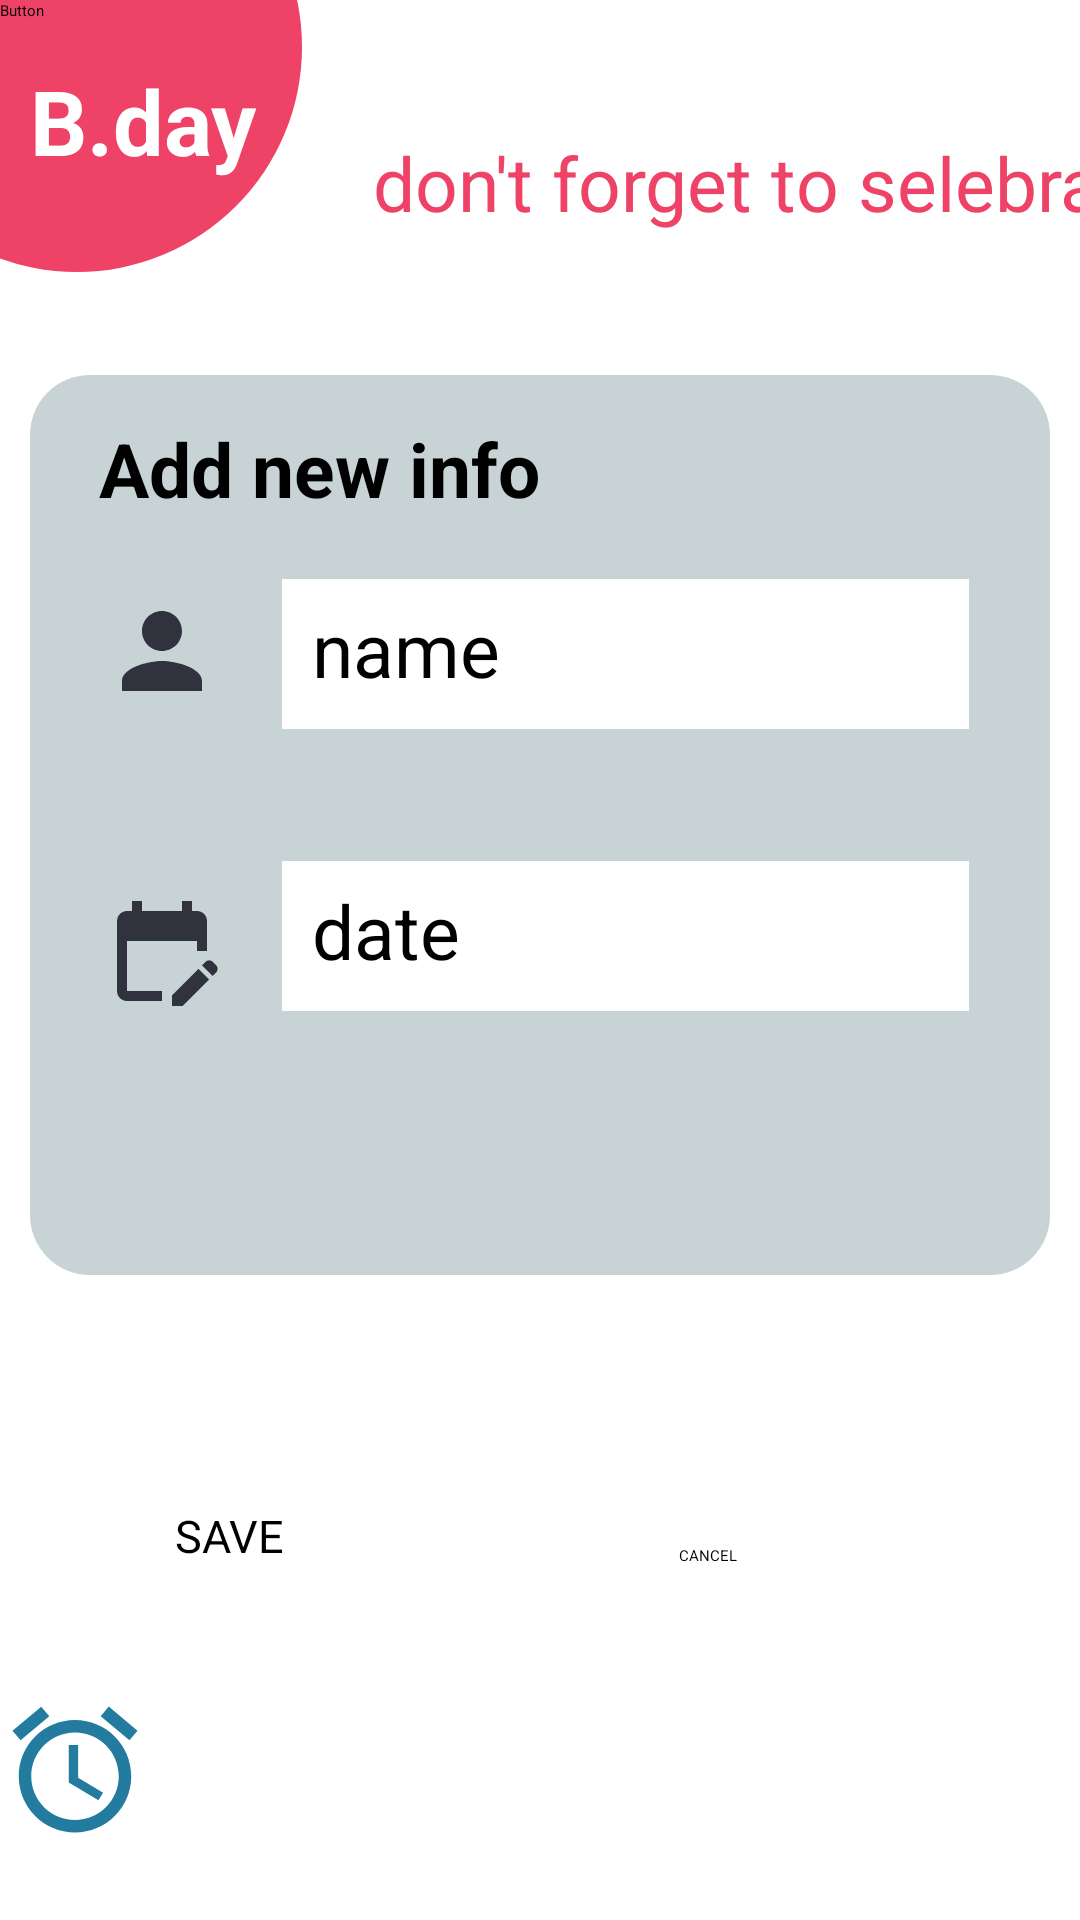

Icon bounding boxes for this 1080×1920 phone screenshot, format (x1, y1, x2, y2):
access alarm: (12, 1706, 138, 1833)
edit calendar: (117, 901, 218, 1006)
person: (122, 611, 202, 691)
